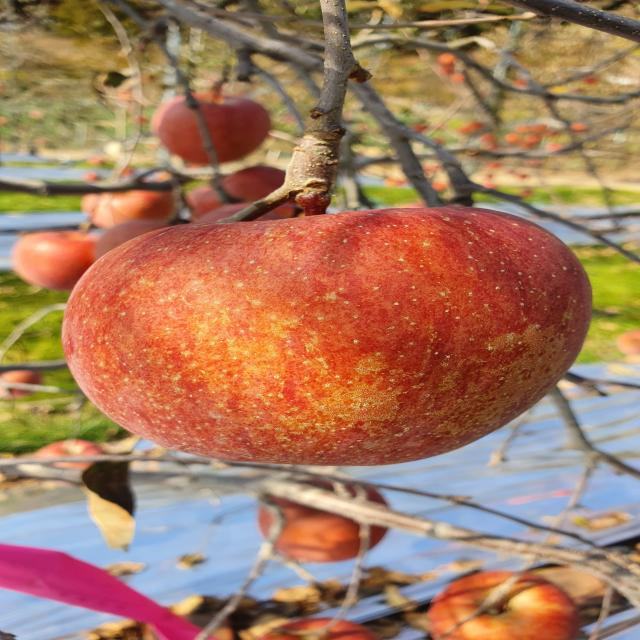fresh: (69, 200, 604, 472)
